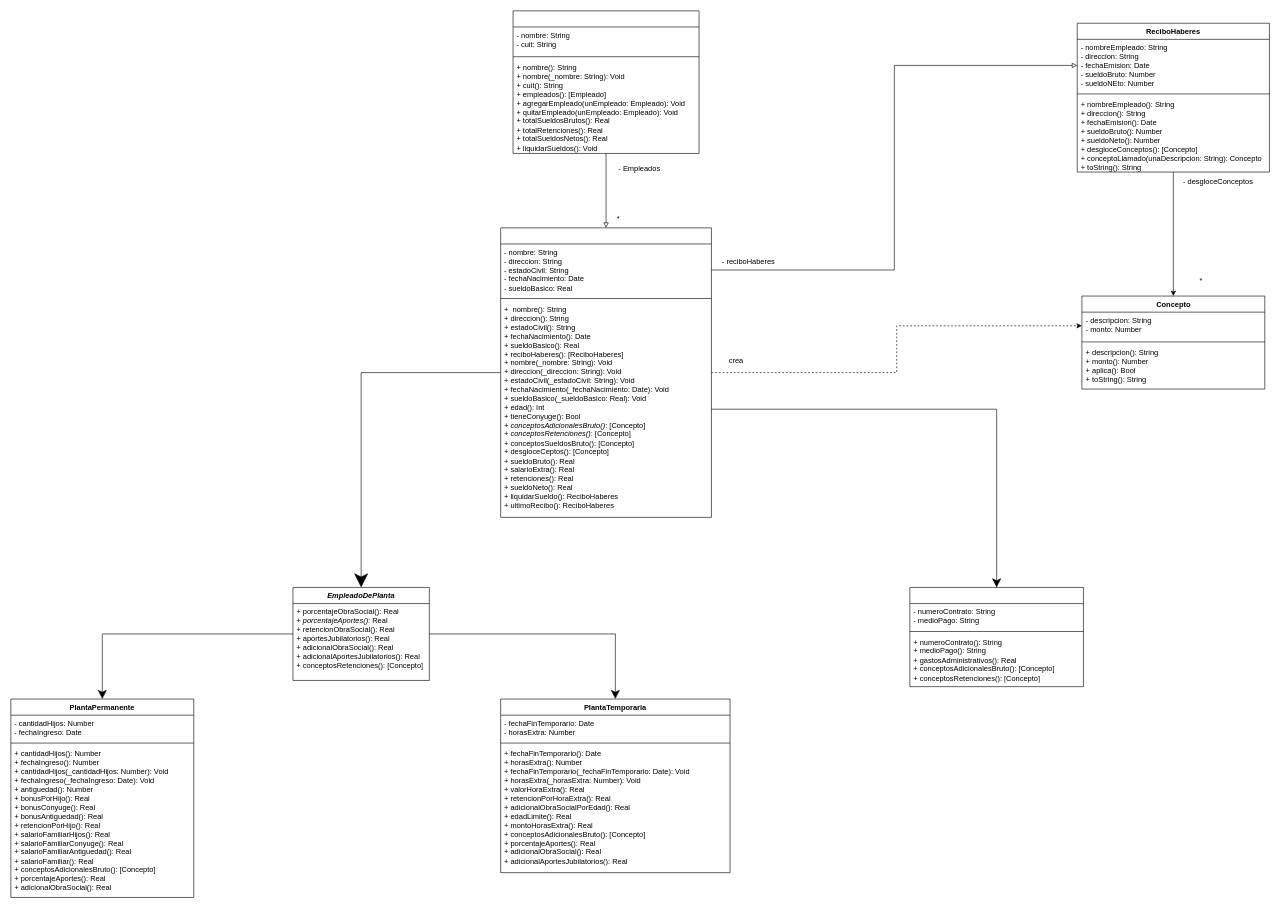
Some shapes in this 1280 by 910 pixel diagram are drawn without their labels. Each missing label, with the box of its shape:
Contratado: (909, 587, 1083, 687)
Empleado: (500, 227, 711, 517)
Empresa: (512, 10, 699, 153)
